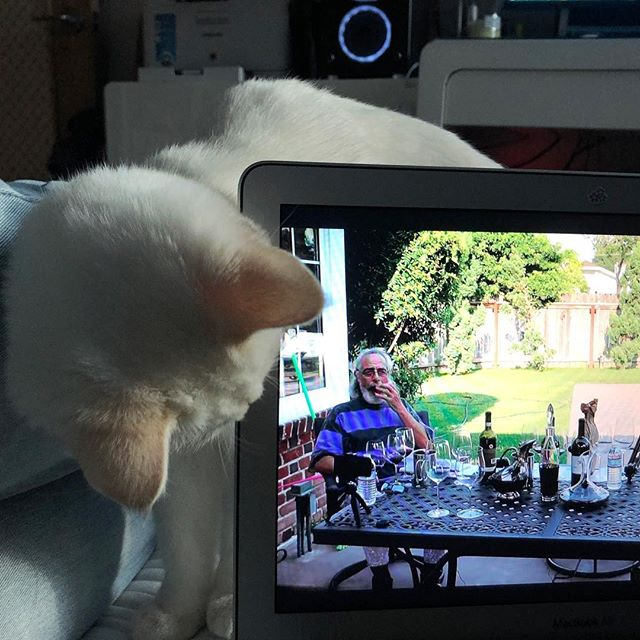cat: (16, 166, 321, 525)
